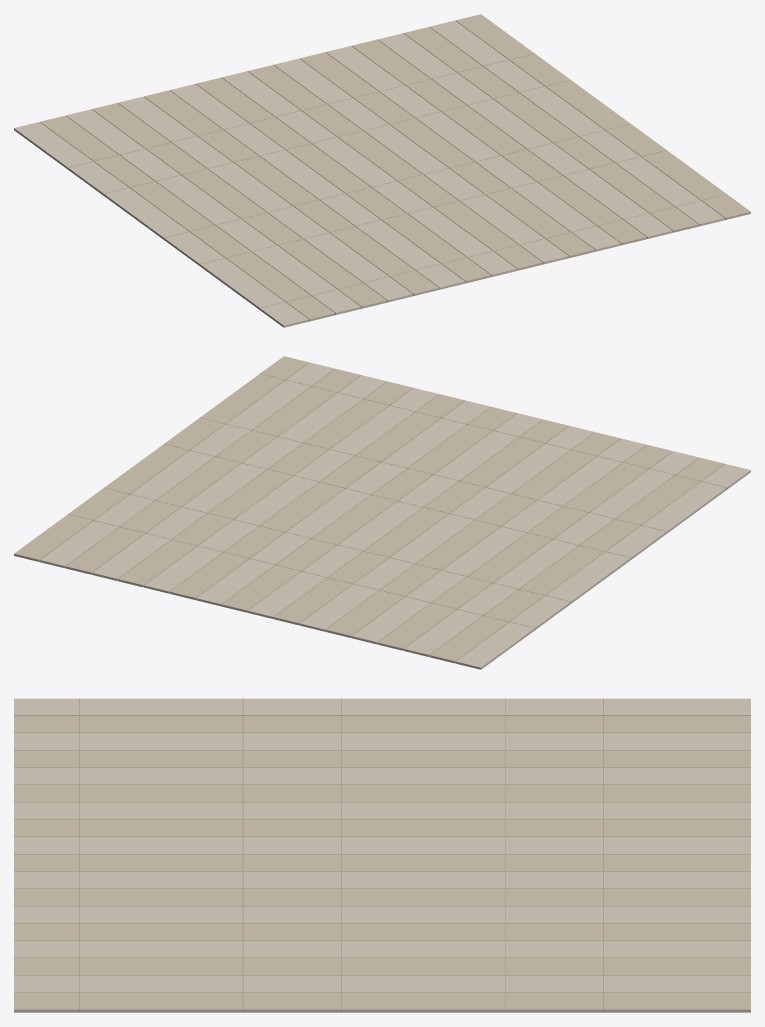
The model's file is home_floor_boards_s1__birch.glb.
3 renders of one model, top to bottom at view 1: azimuth 30°, elevation 25°; view 2: azimuth 150°, elevation 25°; view 3: azimuth 270°, elevation 25°, orthographic. The views are drawn at different scales.
Bounding box in the file's own units: 9 × 0.042 × 9.
